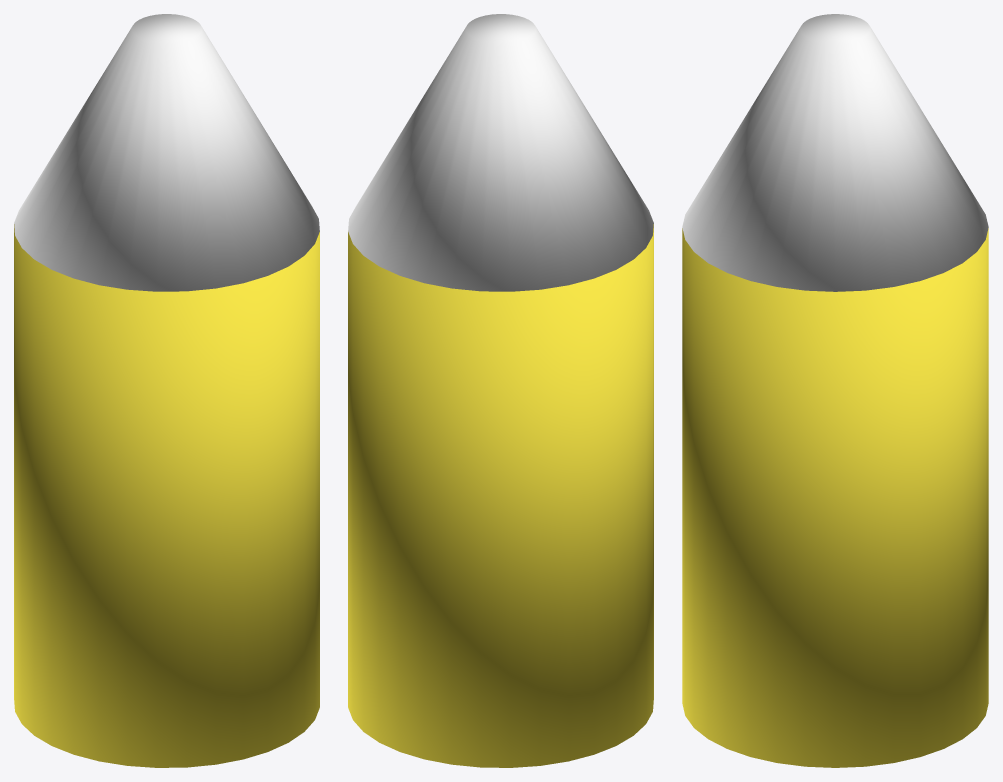
The model's file is mustard_bottle.glb.
3 views of the same model, side by side, from view 1: azimuth 30°, elevation 25°; view 2: azimuth 150°, elevation 25°; view 3: azimuth 270°, elevation 25° (orthographic).
Visible parts, largest first — view 1: MustardBottle; view 2: MustardBottle; view 3: MustardBottle.
Part boxes in pixels (box(x1,y1,x2,y2)): MustardBottle: box(14, 14, 319, 767); MustardBottle: box(348, 14, 653, 767); MustardBottle: box(682, 14, 988, 767).
Size of the model in its own units: 0.7 by 1.7 by 0.7.
